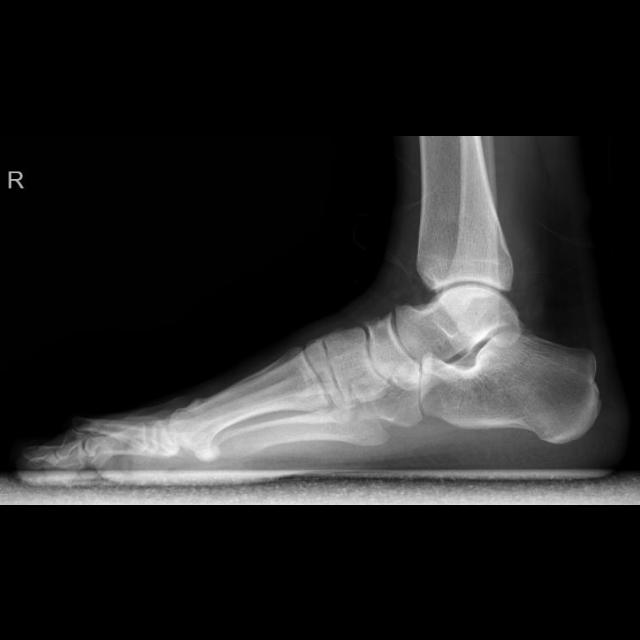a: (421, 329, 599, 443)
b: (366, 312, 420, 390)
c: (175, 351, 330, 461)
